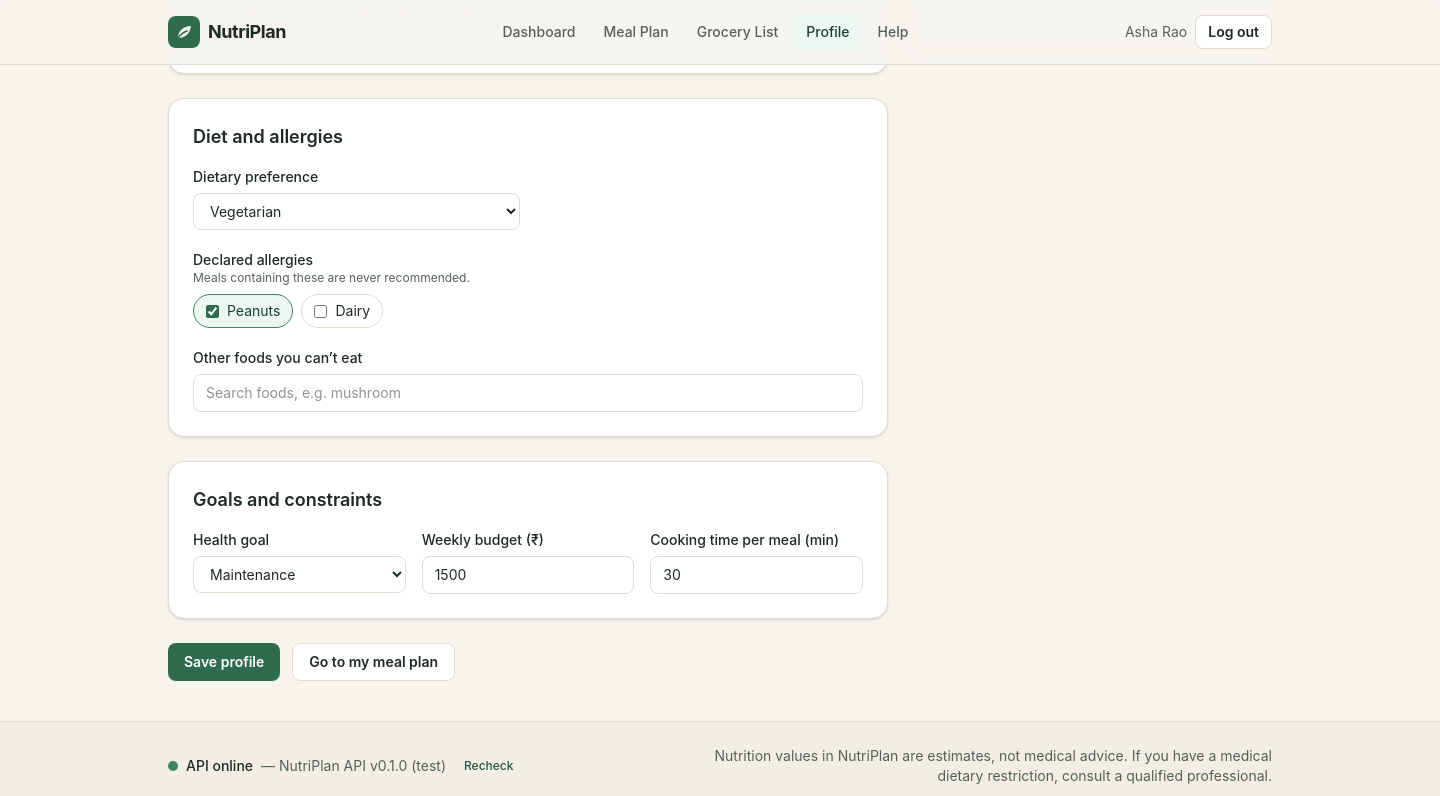
Scenario: Profile (UC-04, UC-05) › maps server-side field errors onto the form
(page scrolled)
Click the button "Save profile" at coordinates (224, 662), box [168, 643, 280, 681]
(page scrolled)
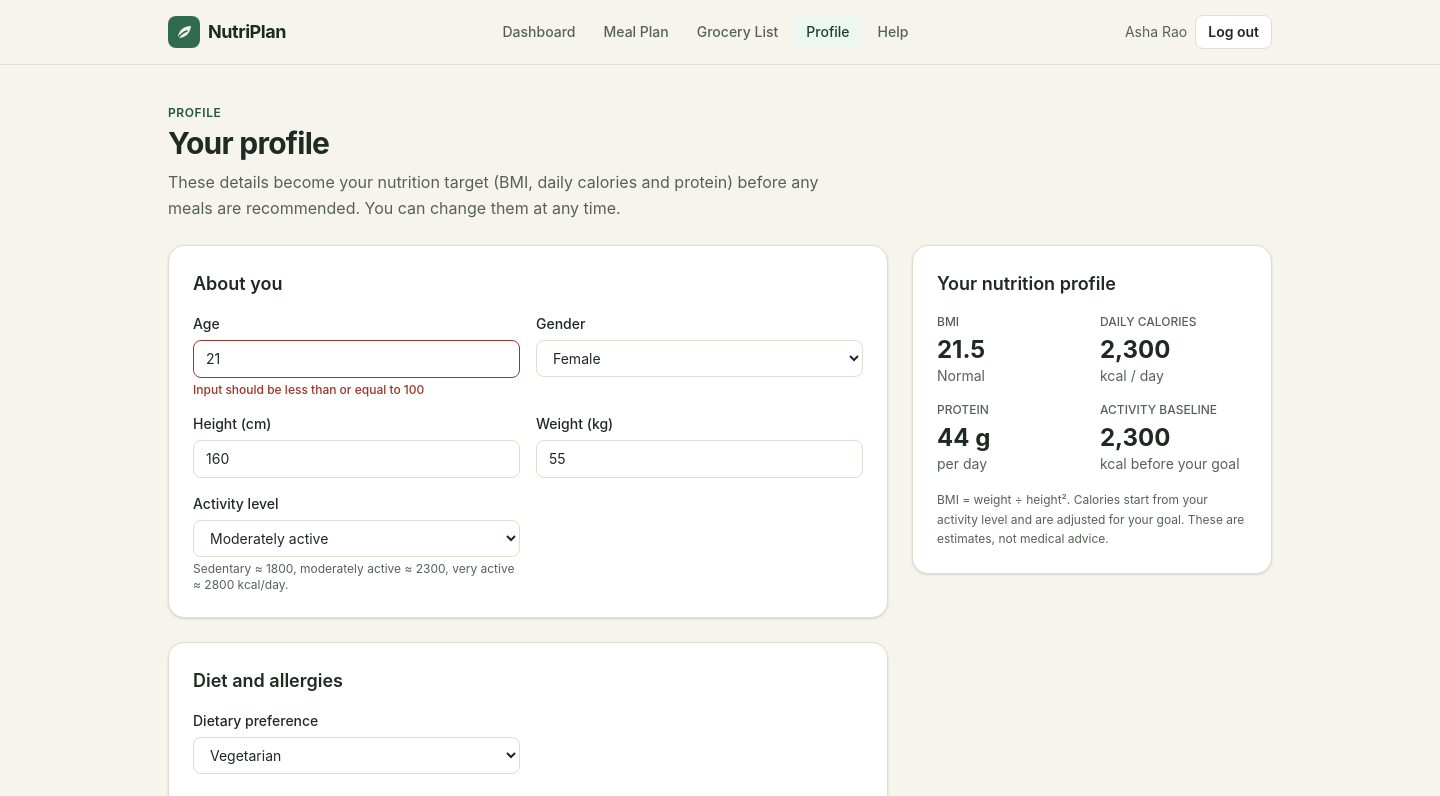
Check: the text "Input should be less than or equal to 100" is shown, box [193, 382, 424, 397]
